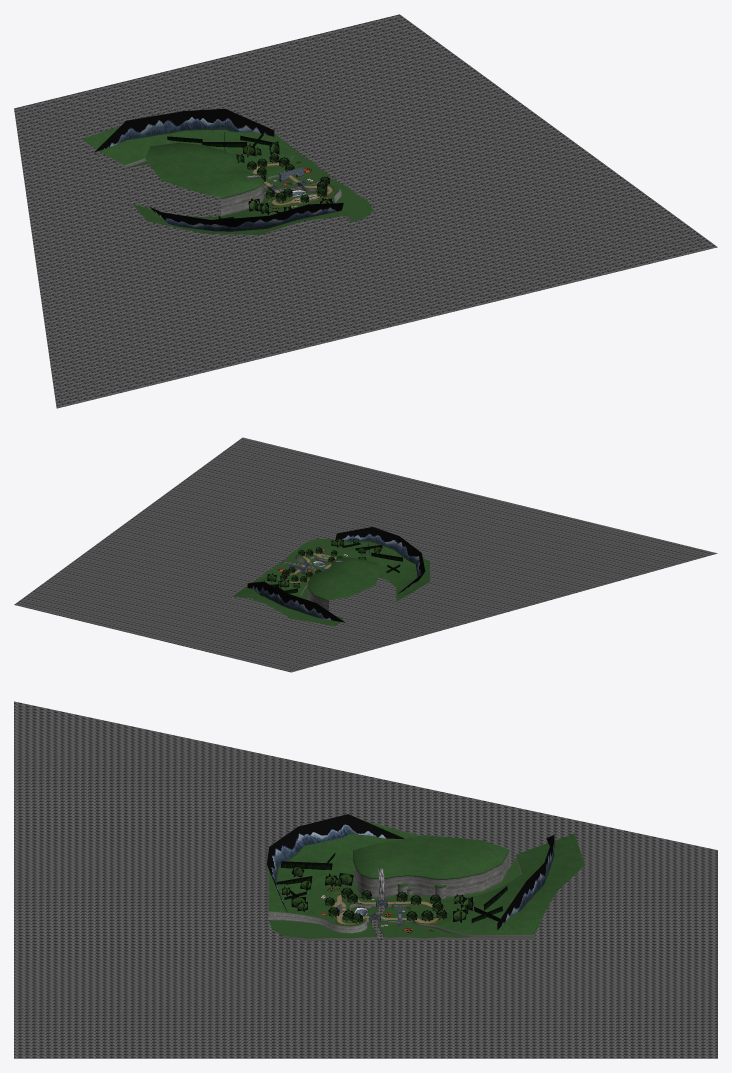
3 views of the same model, one above another, from view 1: azimuth 30°, elevation 25°; view 2: azimuth 150°, elevation 25°; view 3: azimuth 270°, elevation 25° (orthographic). The views are drawn at different scales.
Parts seen in each view (by area): view 1: c-SKP--ef_wave, c-SKP--tex_grass, c-SKP--tex_mountains, c-SKP--tex_iwa, c-SKP--tex_leaf, c-SKP--tex_treefar, c-SKP--tex_kusafar; view 2: c-SKP--ef_wave, c-SKP--tex_grass, c-SKP--tex_mountains, c-SKP--tex_leaf, c-SKP--tex_kusafar, c-SKP--tex_treefar; view 3: c-SKP--ef_wave, c-SKP--tex_grass, c-SKP--tex_iwa, c-SKP--tex_mountains, c-SKP--tex_leaf, c-SKP--tex_treefar, c-SKP--tex_kusafar, c-SKP--tex_cobble.
Boxes of the visible parts, left/top/right/bottom form: c-SKP--ef_wave: left=14, top=14, right=717, bottom=408; c-SKP--tex_grass: left=82, top=124, right=373, bottom=234; c-SKP--tex_mountains: left=94, top=108, right=343, bottom=231; c-SKP--tex_iwa: left=124, top=155, right=373, bottom=221; c-SKP--tex_leaf: left=247, top=154, right=330, bottom=202; c-SKP--tex_treefar: left=236, top=141, right=332, bottom=215; c-SKP--tex_kusafar: left=167, top=132, right=305, bottom=221; c-SKP--ef_wave: left=14, top=437, right=717, bottom=672; c-SKP--tex_grass: left=232, top=538, right=429, bottom=625; c-SKP--tex_mountains: left=247, top=527, right=425, bottom=622; c-SKP--tex_leaf: left=280, top=547, right=342, bottom=582; c-SKP--tex_kusafar: left=264, top=541, right=402, bottom=593; c-SKP--tex_treefar: left=267, top=537, right=381, bottom=587; c-SKP--ef_wave: left=14, top=701, right=717, bottom=1058; c-SKP--tex_grass: left=268, top=820, right=584, bottom=938; c-SKP--tex_iwa: left=268, top=853, right=534, bottom=941; c-SKP--tex_mountains: left=266, top=814, right=554, bottom=929; c-SKP--tex_leaf: left=325, top=887, right=447, bottom=923; c-SKP--tex_treefar: left=281, top=865, right=473, bottom=922; c-SKP--tex_kusafar: left=276, top=852, right=507, bottom=922; c-SKP--tex_cobble: left=14, top=898, right=717, bottom=1058.
Size of the model in its own units: 6001 by 360 by 5001.
Materials: 29 (29 with a texture image).
